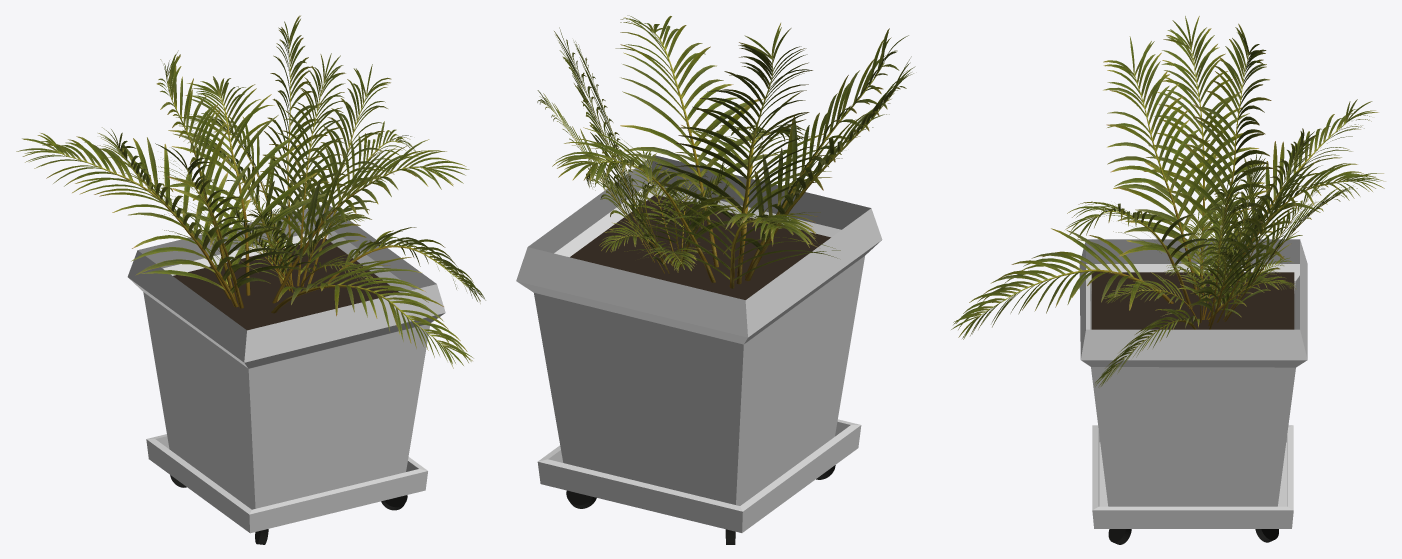
The model's file is maceta2.2.fbx.
The picture shows the model from 3 angles, left to right: view 1: azimuth 30°, elevation 25°; view 2: azimuth 150°, elevation 25°; view 3: azimuth 270°, elevation 25°; orthographic projection. The views are drawn at different scales.
Visible parts, largest first — view 1: Cube, Palm_01, Cube.003, Palm_01.002, Cube.002, Cube.001, Palm_01.001; view 2: Cube, Palm_01, Cube.003, Cube.002, Cube.001, Palm_01.002, Palm_01.001; view 3: Palm_01, Cube, Cube.003, Palm_01.002, Cube.002, Cube.001, Palm_01.001.
Part boxes in pixels (x1,y1,x2,y2): Cube: [143, 292, 429, 509]; Palm_01: [16, 50, 473, 368]; Cube.003: [127, 205, 445, 368]; Palm_01.002: [182, 15, 485, 303]; Cube.002: [170, 239, 407, 544]; Cube.001: [146, 434, 427, 533]; Palm_01.001: [201, 184, 378, 292]; Cube: [534, 256, 864, 505]; Palm_01: [552, 15, 915, 288]; Cube.003: [516, 155, 882, 344]; Cube.002: [566, 194, 835, 544]; Cube.001: [537, 419, 861, 532]; Palm_01.002: [537, 27, 669, 273]; Palm_01.001: [599, 151, 730, 272]; Palm_01: [951, 16, 1385, 339]; Cube: [1090, 281, 1295, 506]; Cube.003: [1079, 239, 1307, 367]; Palm_01.002: [1094, 128, 1357, 387]; Cube.002: [1091, 272, 1294, 544]; Cube.001: [1092, 425, 1293, 528]; Palm_01.001: [1103, 207, 1296, 323].
Size of the model in its own units: 247 by 315 by 285.
